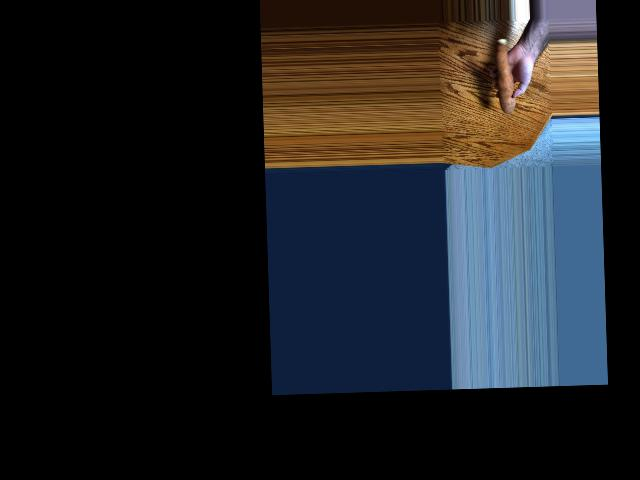sweet_potato: (490, 44, 512, 114)
